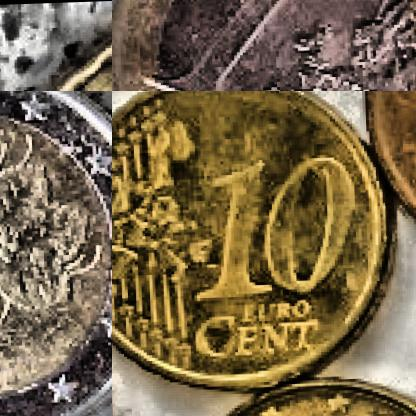coin: (112, 91, 403, 397), (0, 91, 111, 415), (112, 0, 415, 90), (0, 9, 111, 90)
